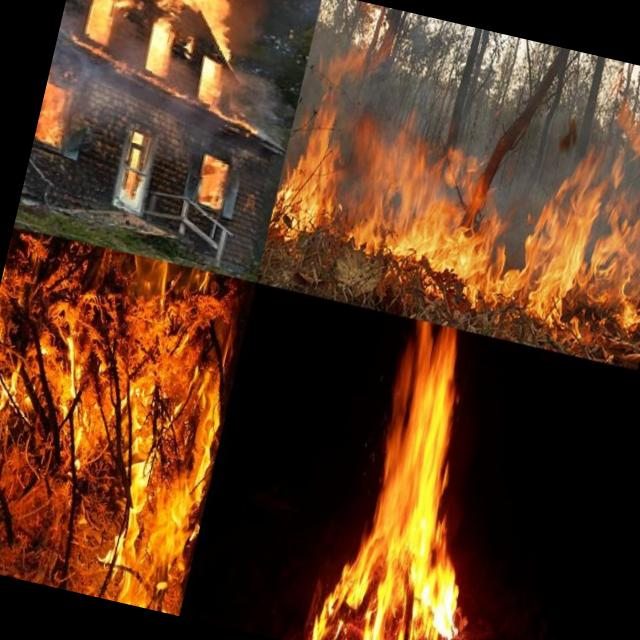fire: (262, 30, 640, 344), (0, 225, 254, 615), (306, 311, 534, 640), (68, 0, 244, 25), (190, 150, 252, 216), (190, 20, 233, 105), (136, 7, 184, 80), (34, 77, 80, 148), (81, 0, 129, 53), (204, 107, 264, 139)
smoke: (214, 0, 322, 124)
